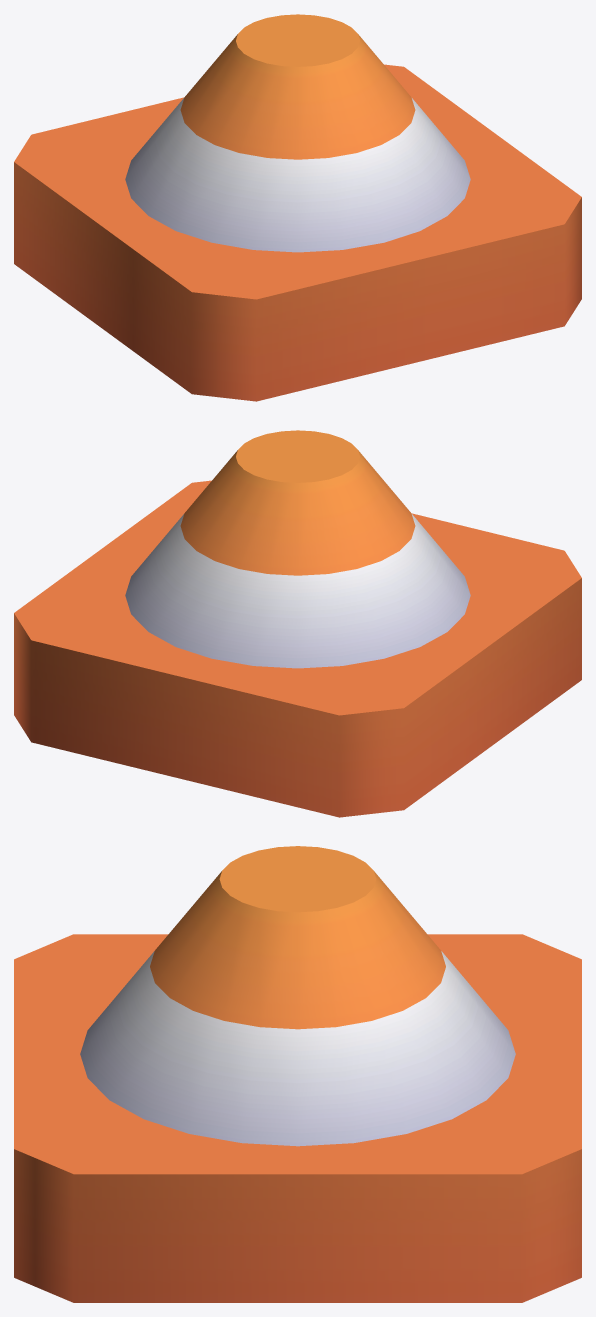
File: cone-flat.glb
3 renders of one model, top to bottom at view 1: azimuth 30°, elevation 25°; view 2: azimuth 150°, elevation 25°; view 3: azimuth 270°, elevation 25°, orthographic. The views are drawn at different scales.
Visible parts, largest first — view 1: cone-flat; view 2: cone-flat; view 3: cone-flat.
Part boxes in pixels (box(x1,y1,x2,y2)): cone-flat: box(14, 14, 581, 401); cone-flat: box(14, 430, 581, 817); cone-flat: box(14, 846, 581, 1302).
Size of the model in its own units: 0.4762 by 0.281 by 0.4762.
1 material, 1 textured.
